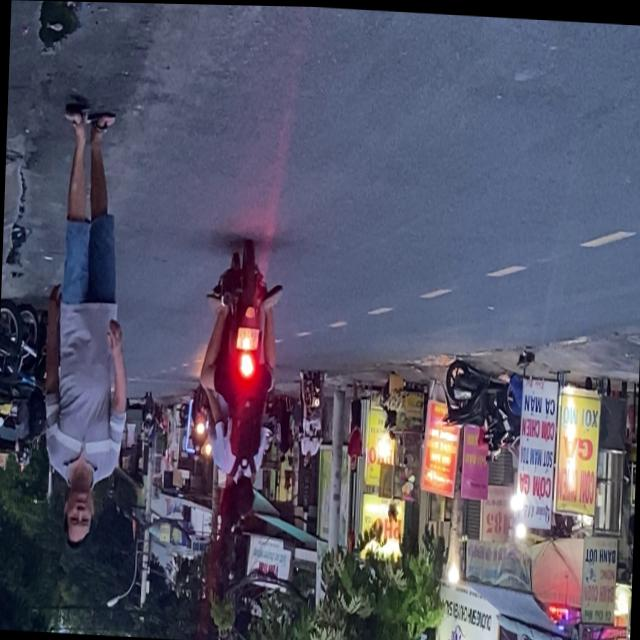licenseplate: (195, 237, 285, 525)
motorcyclist: (232, 469, 258, 518)
nohelmet: (237, 326, 260, 350)
